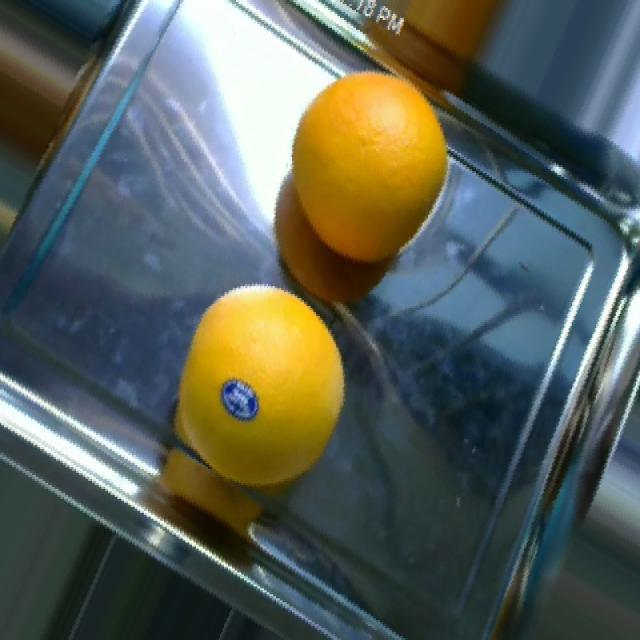Good_Orange: (180, 286, 345, 485), (291, 74, 451, 266)
